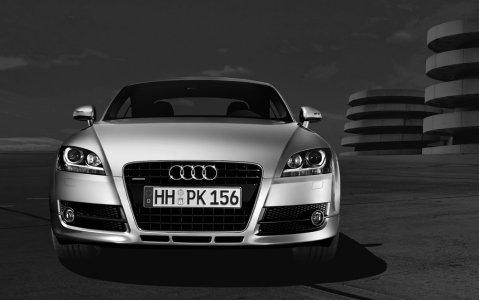car: (49, 76, 343, 266)
